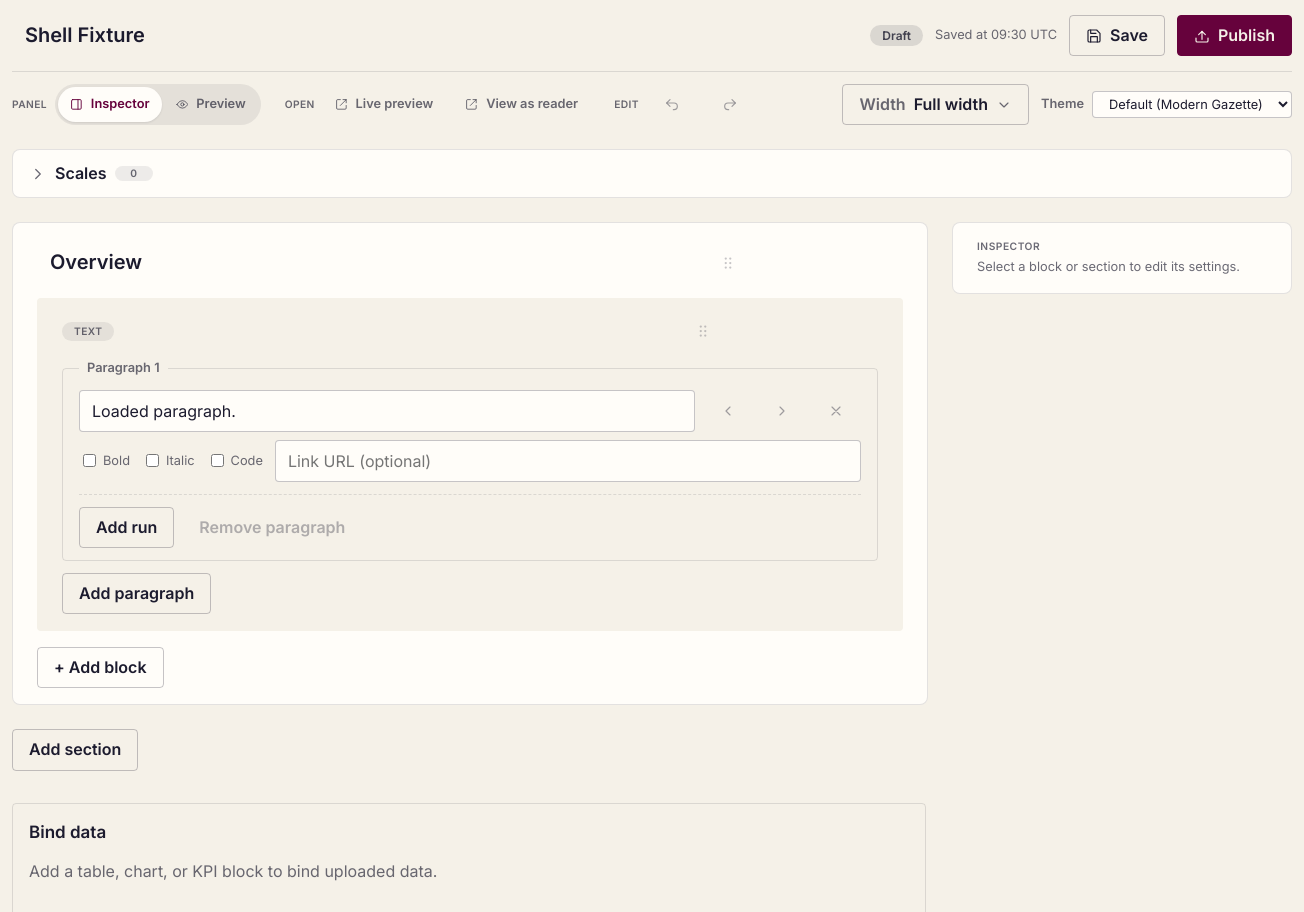
Test case: ReportEditor shell › shows the inspector by default and swaps the right pane to the preview on demand
The image size is (1304, 912).
expect the element labelled "Inspector Select a block or section to edit its settings." is shown: met, box [952, 222, 1292, 294]
// Switching the pane to "Preview" swaps in the live preview.
Click the button "Preview": (211, 105) [164, 87, 258, 122]
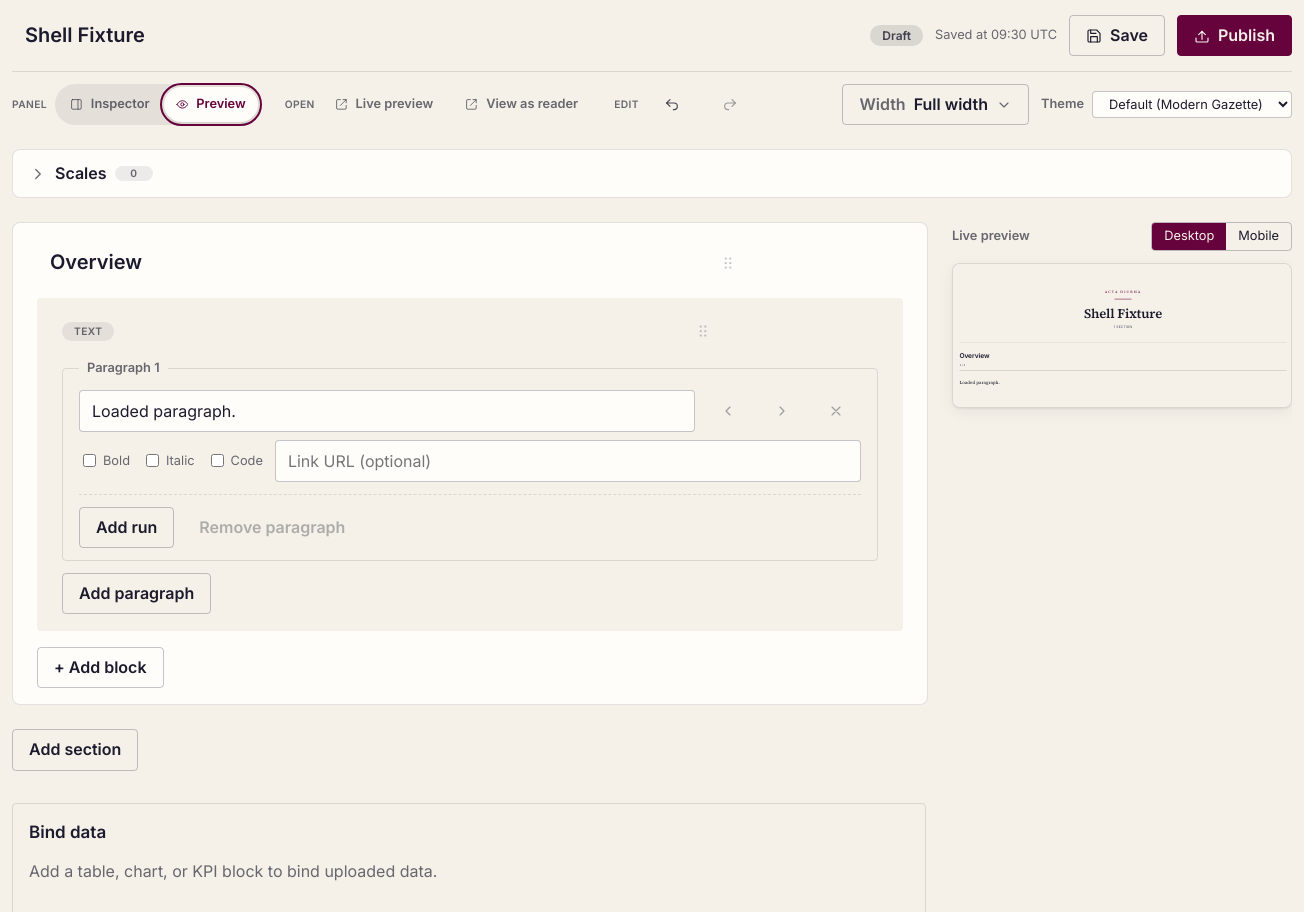
expect the element labelled "Live preview" is shown: met, box [952, 222, 1292, 408]
// Switching back to "Inspector" returns the pane to the inspector.
Click the button "Inspector": (110, 105) [58, 87, 162, 122]
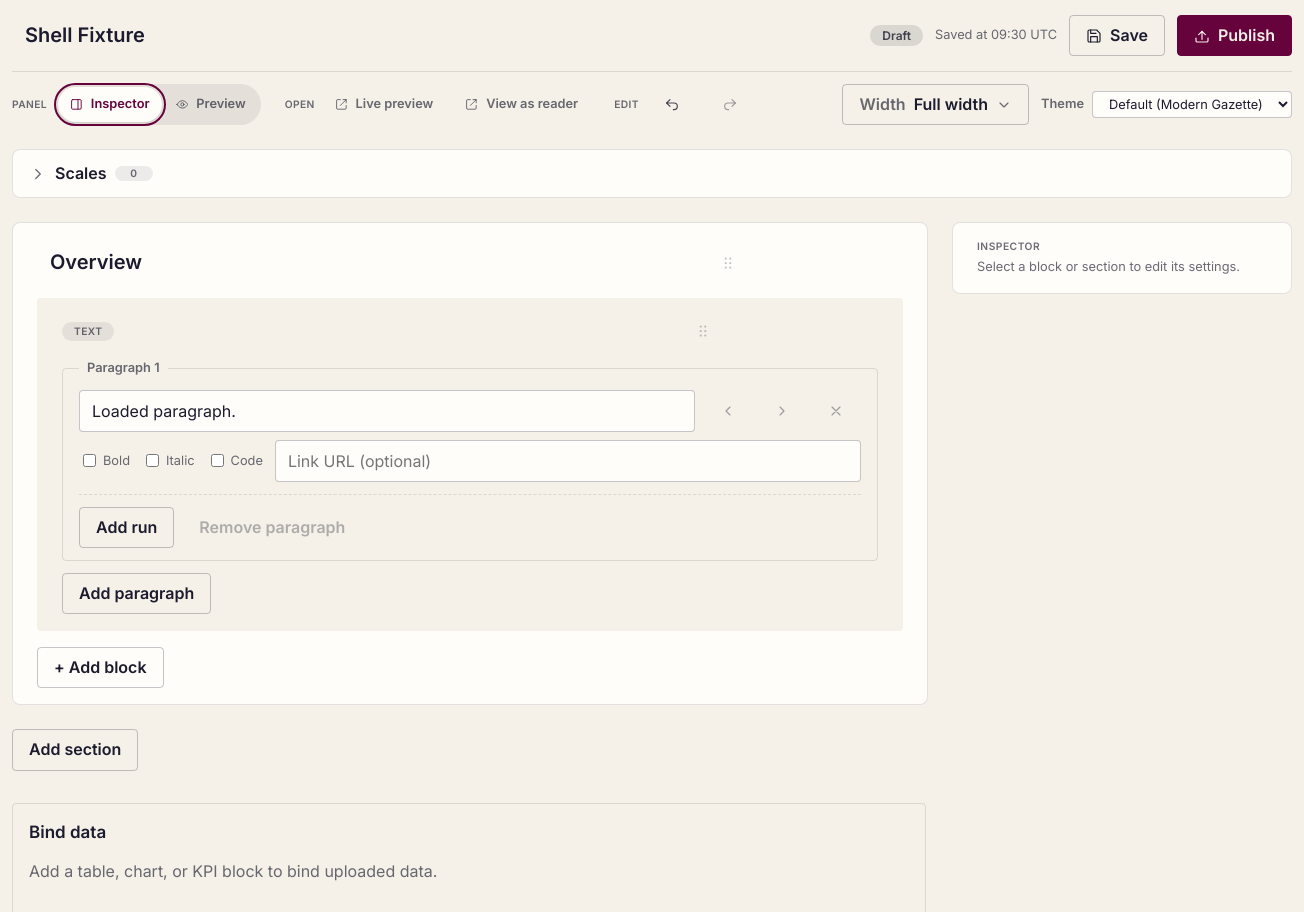
expect the element labelled "Inspector Select a block or section to edit its settings." is shown: met, box [952, 222, 1292, 294]
